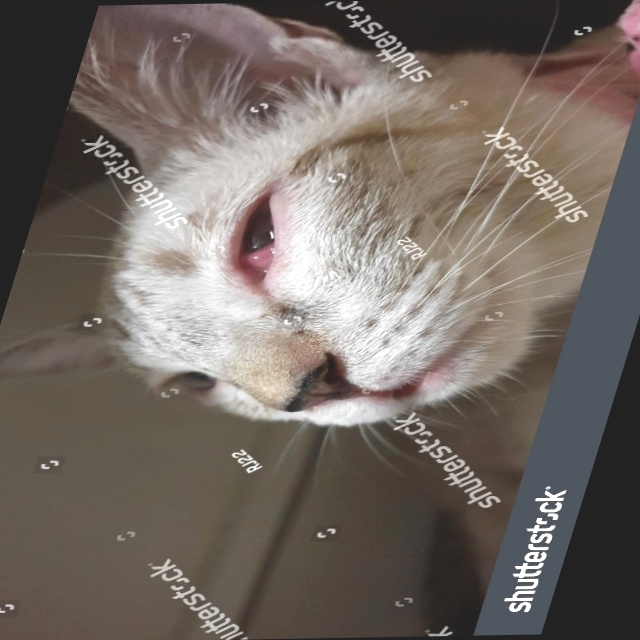eye_infection: (218, 191, 298, 280)
